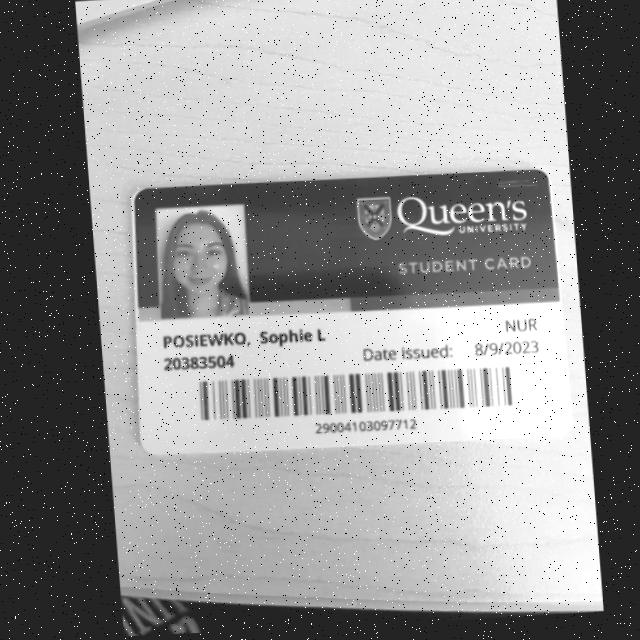card: (132, 169, 571, 454)
